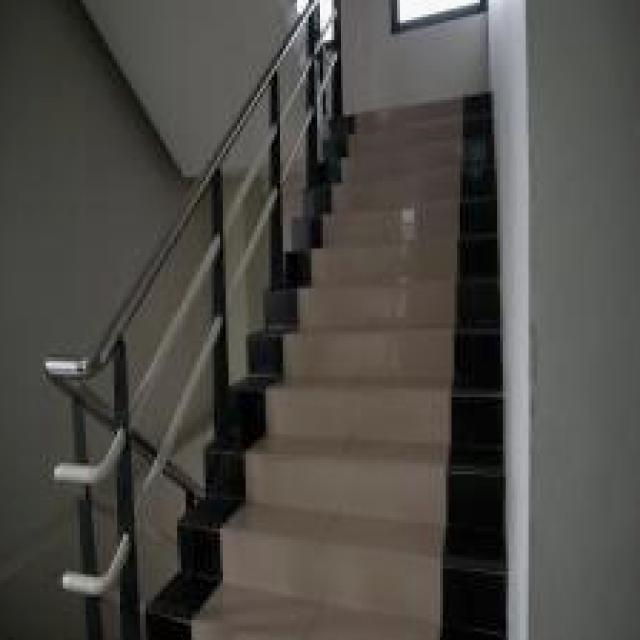upstair: (261, 135, 498, 624)
